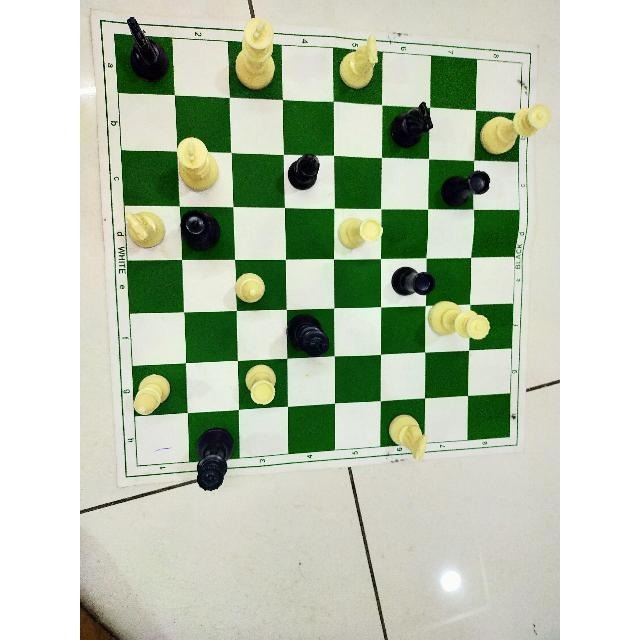black-bishop: (286, 152, 322, 192)
black-king: (284, 312, 331, 359)
black-knight: (124, 15, 171, 85), (388, 100, 435, 150)
black-queen: (194, 426, 236, 492), (179, 209, 222, 253)
black-rook: (438, 169, 491, 209), (390, 265, 438, 297)
white-bishop: (132, 372, 172, 416), (234, 272, 266, 306)
white-king: (233, 16, 277, 92), (174, 136, 220, 194)
white-knight: (337, 32, 381, 92), (386, 413, 430, 463), (123, 209, 167, 250)
white-queen: (478, 102, 553, 157), (427, 299, 493, 343)
white-rook: (335, 215, 384, 251), (243, 363, 278, 407)
